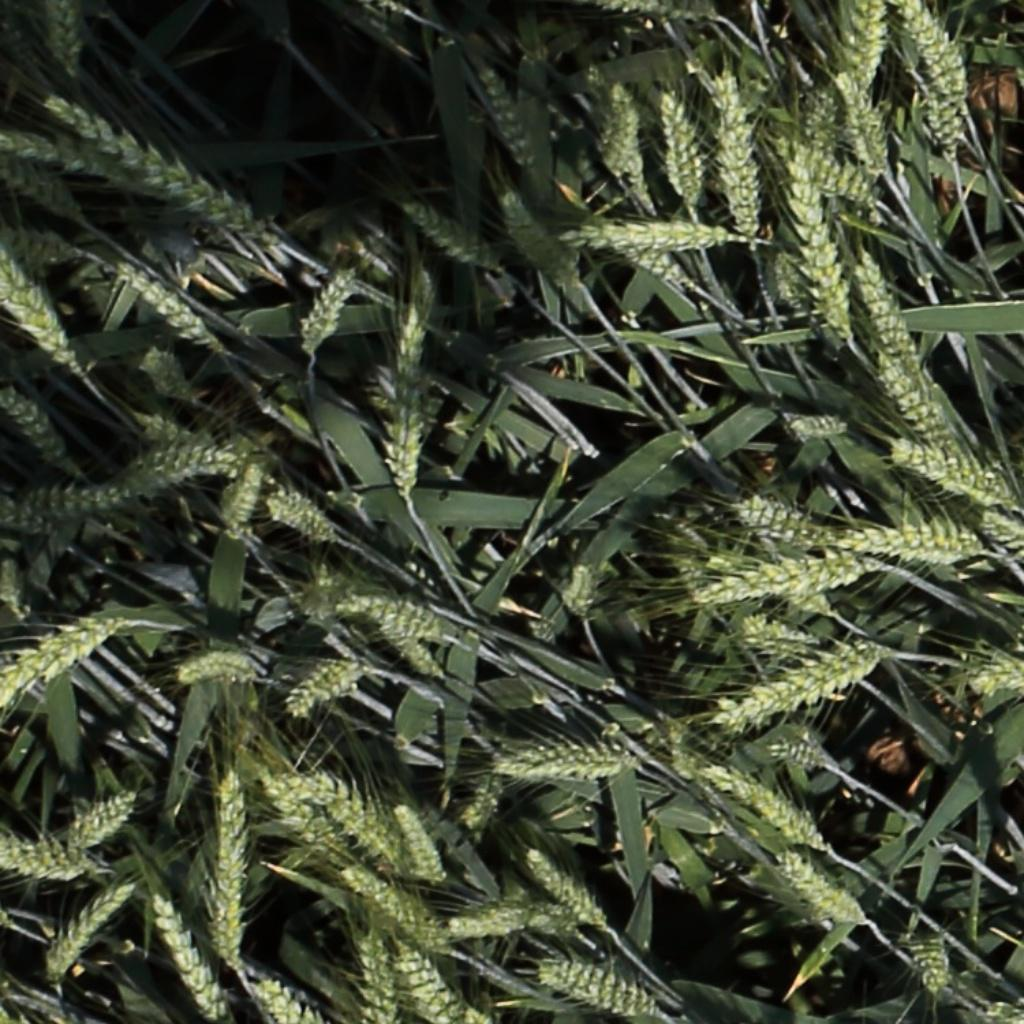0-0: (42, 92, 288, 248), (698, 759, 857, 877), (711, 640, 880, 743), (141, 888, 223, 1024), (38, 877, 131, 988), (257, 753, 365, 848), (789, 176, 851, 341), (299, 765, 411, 856), (872, 350, 963, 461), (12, 614, 124, 703), (694, 554, 876, 608), (8, 253, 84, 378), (584, 0, 764, 52), (211, 768, 254, 984), (596, 63, 655, 219), (341, 865, 445, 953), (669, 555, 760, 655), (853, 248, 922, 379), (714, 546, 836, 620), (107, 441, 230, 513), (744, 608, 856, 686), (114, 263, 214, 345), (821, 517, 987, 566), (494, 187, 576, 285), (518, 846, 606, 935), (383, 299, 423, 490), (897, 0, 966, 105), (891, 445, 1011, 503), (771, 132, 872, 200), (537, 962, 655, 1018), (387, 933, 461, 1022), (889, 921, 963, 1009), (401, 199, 494, 268), (831, 66, 891, 172), (778, 854, 864, 927), (494, 733, 622, 782), (475, 64, 535, 167), (452, 881, 560, 938), (294, 259, 357, 353), (594, 229, 687, 292), (0, 382, 69, 465), (719, 88, 757, 230), (547, 226, 729, 255), (655, 87, 699, 204), (735, 495, 832, 548), (387, 800, 443, 888), (283, 568, 361, 629), (456, 771, 531, 834), (0, 158, 80, 217), (913, 62, 962, 155), (281, 659, 359, 716), (344, 596, 442, 640), (172, 638, 270, 682), (375, 621, 442, 684), (66, 791, 135, 851), (356, 927, 394, 1024), (217, 457, 263, 535), (653, 712, 700, 787), (260, 494, 331, 542), (767, 247, 815, 318), (849, 0, 884, 96), (967, 644, 1021, 703), (596, 84, 631, 175), (136, 344, 188, 402), (249, 980, 316, 1022), (139, 407, 213, 445), (21, 488, 132, 512), (2, 228, 79, 262), (47, 0, 80, 79), (1, 849, 83, 879), (981, 512, 1024, 567), (563, 558, 591, 625), (764, 741, 827, 770), (0, 499, 50, 535), (0, 132, 61, 158), (1, 551, 21, 613), (785, 417, 847, 434)
